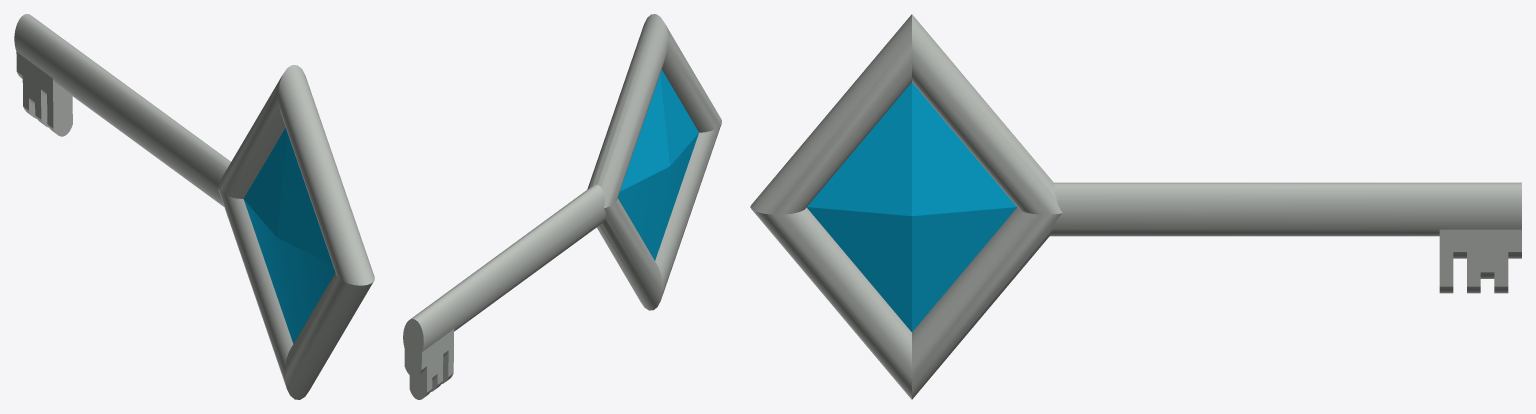
The model's file is chave diamante.fbx.
The picture shows the model from 3 angles, left to right: view 1: azimuth 30°, elevation 25°; view 2: azimuth 150°, elevation 25°; view 3: azimuth 270°, elevation 25°; orthographic projection. The views are drawn at different scales.
Visible parts, largest first — view 1: BézierCircle; view 2: BézierCircle; view 3: BézierCircle.
Part boxes in pixels (x1,y1,x2,y2): BézierCircle: [14, 14, 374, 399]; BézierCircle: [403, 14, 721, 399]; BézierCircle: [750, 14, 1521, 399].
Bounding box in the file's own units: 1.06 × 9 × 16.54.
